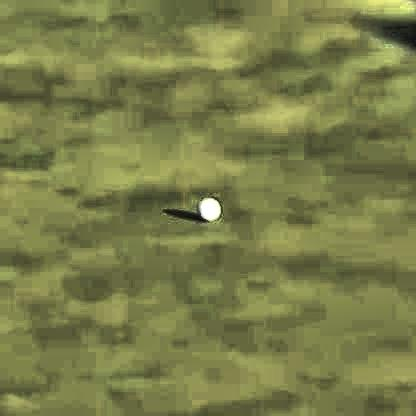golfball: (196, 189, 218, 217)
